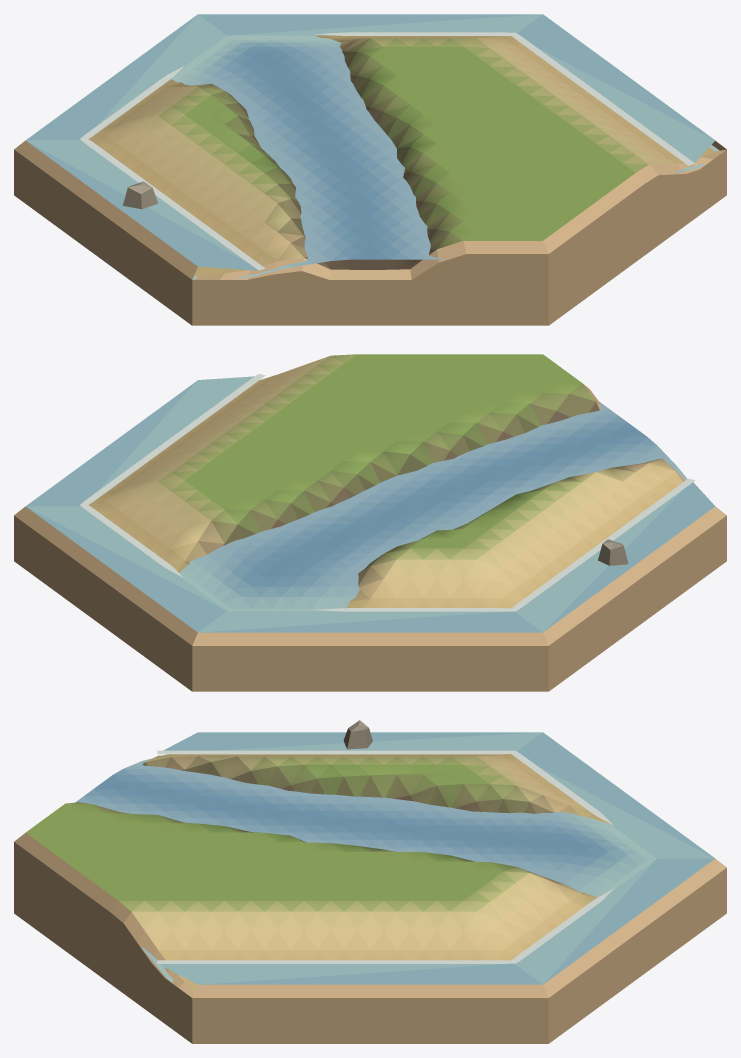
Rendered from estuary_sea4_edge4.fbx.
3 renders of one model, top to bottom at view 1: azimuth 30°, elevation 25°; view 2: azimuth 150°, elevation 25°; view 3: azimuth 270°, elevation 25°, orthographic.
Parts seen in each view (by area): view 1: estuary_sea4_edge4; view 2: estuary_sea4_edge4; view 3: estuary_sea4_edge4.
Boxes of the visible parts, x1,y1,x2,y2 form: estuary_sea4_edge4: (14,14,726,325); estuary_sea4_edge4: (14,354,726,691); estuary_sea4_edge4: (14,720,726,1043).
Size of the model in its own units: 1.73 by 0.25 by 2.
